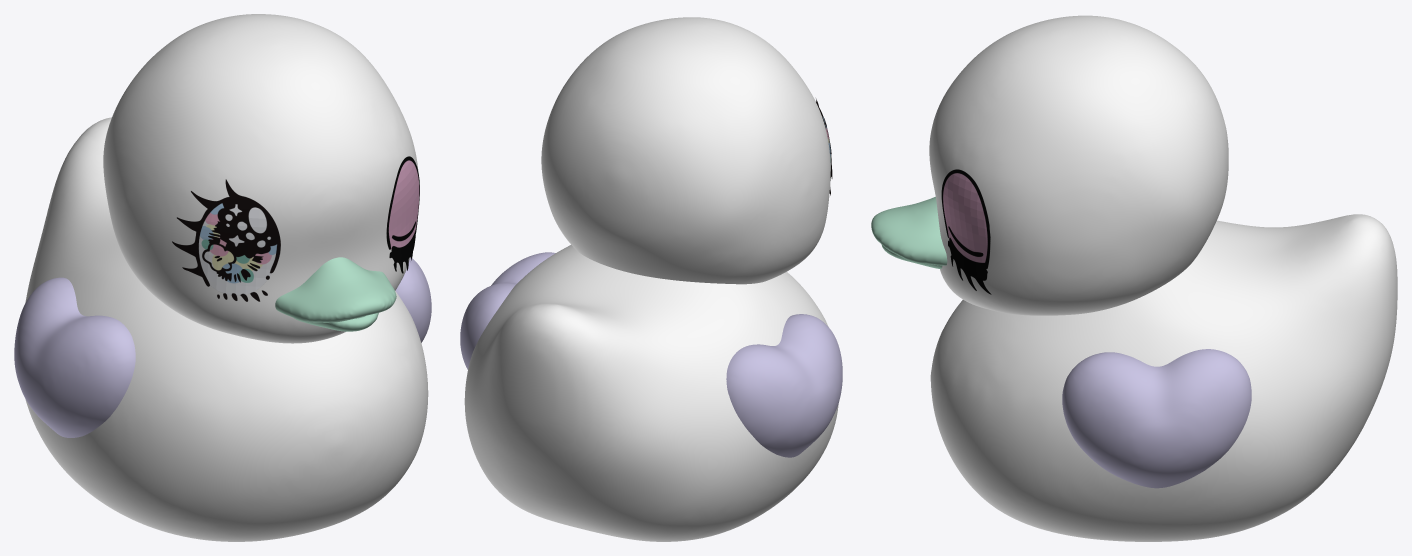
3 renders of one model, left to right at view 1: azimuth 30°, elevation 25°; view 2: azimuth 150°, elevation 25°; view 3: azimuth 270°, elevation 25°, orthographic. The views are drawn at different scales.
Parts seen in each view (by area): view 1: Torebi 5, Fix, Torebi 7, 平面.002, Torebi 3, Torebi 4; view 2: Torebi 5, Fix, Torebi 7, Torebi 4; view 3: Torebi 5, Fix, Torebi 4, 平面.002, Torebi 3.
Boxes of the visible parts, box(x1,y1,x2,y2) form: Torebi 5: box(25, 117, 428, 541); Fix: box(103, 14, 418, 343); Torebi 7: box(14, 277, 135, 437); 平面.002: box(172, 156, 419, 301); Torebi 3: box(275, 257, 396, 331); Torebi 4: box(395, 257, 431, 342); Torebi 5: box(464, 245, 838, 541); Fix: box(541, 17, 830, 284); Torebi 7: box(726, 314, 842, 457); Torebi 4: box(460, 252, 555, 369); Torebi 5: box(930, 214, 1397, 541); Fix: box(929, 15, 1228, 315); Torebi 4: box(1062, 349, 1251, 488); 平面.002: box(941, 169, 991, 294); Torebi 3: box(871, 197, 947, 268).
Bounding box in the file's own units: 50.64 × 60.08 × 62.26.
Materials: 5 (1 with a texture image).
